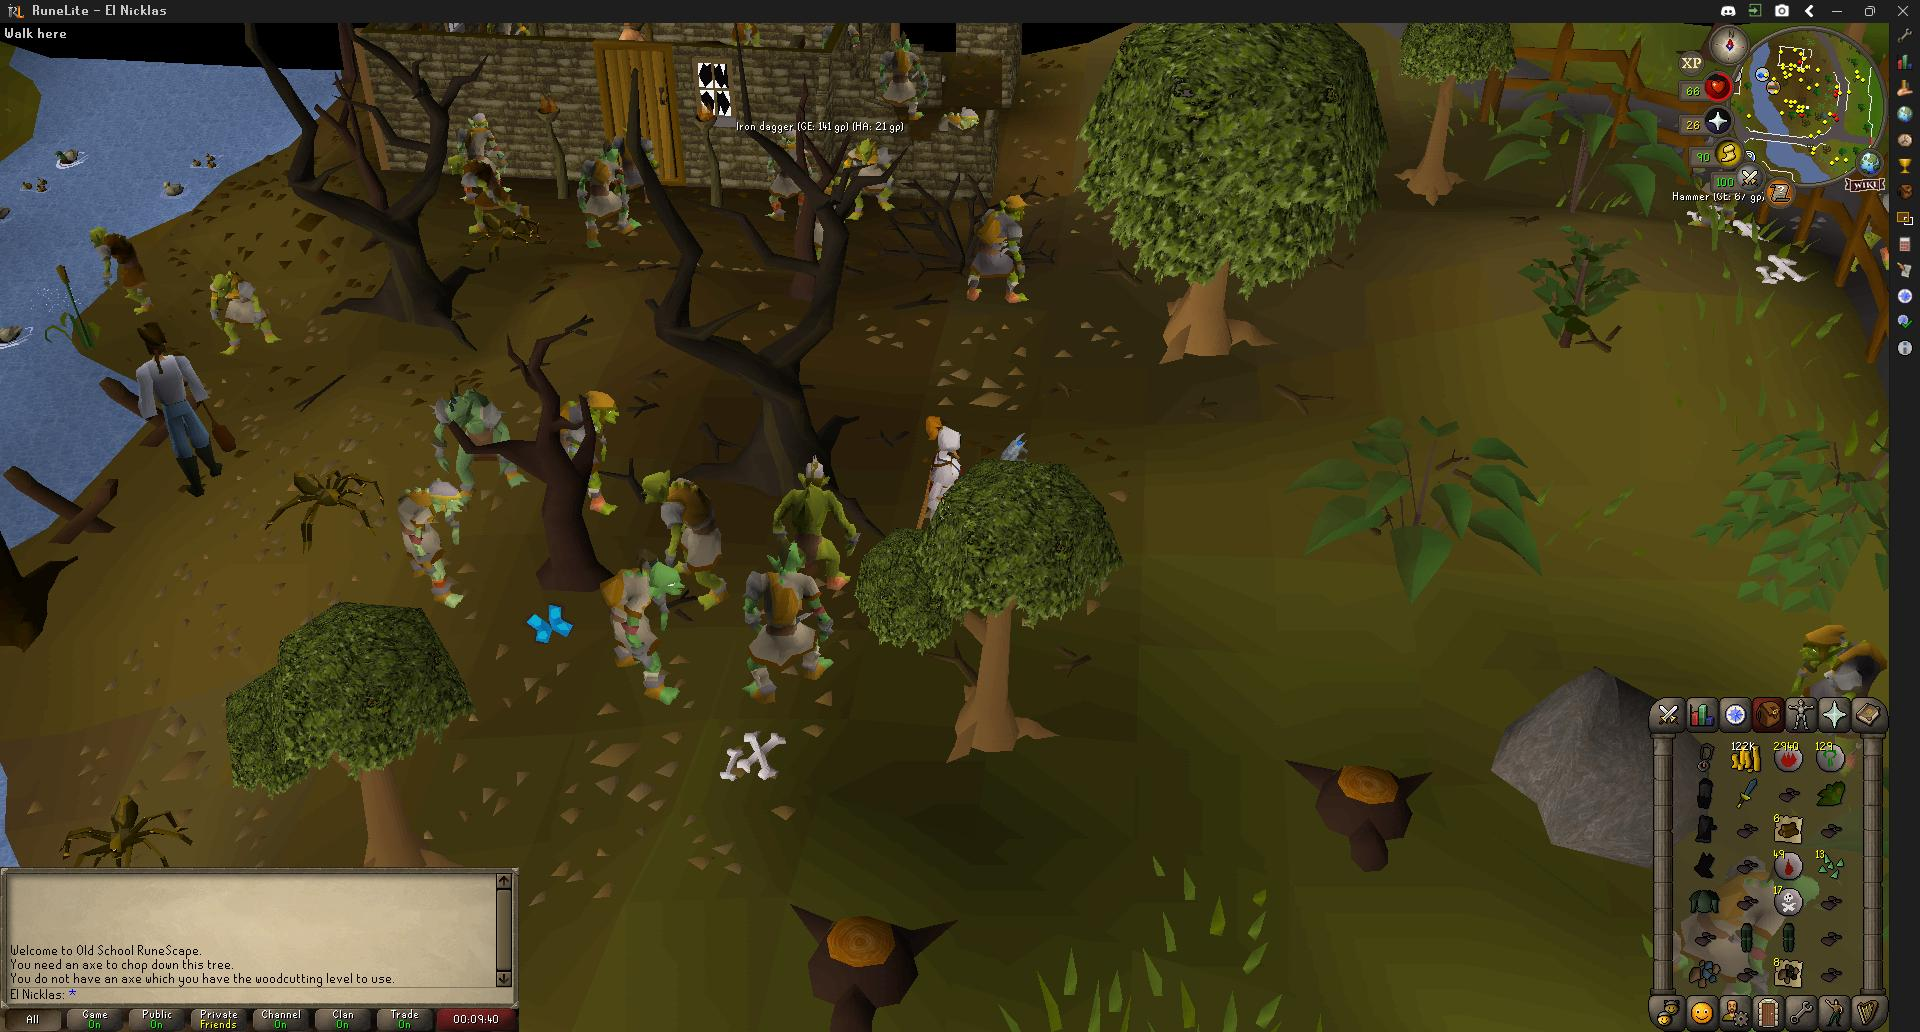goblin: (740, 544, 834, 690), (770, 459, 860, 594), (436, 380, 529, 493), (395, 488, 474, 605), (598, 574, 675, 694), (451, 112, 521, 238), (646, 470, 712, 594), (963, 192, 1031, 304), (787, 153, 851, 266), (555, 388, 615, 503), (573, 142, 637, 248), (825, 139, 902, 225), (208, 267, 281, 353), (1792, 620, 1892, 681), (89, 226, 150, 314), (881, 33, 929, 125), (761, 131, 809, 222), (943, 107, 981, 132), (732, 23, 759, 50), (619, 22, 647, 43), (841, 22, 862, 51)
